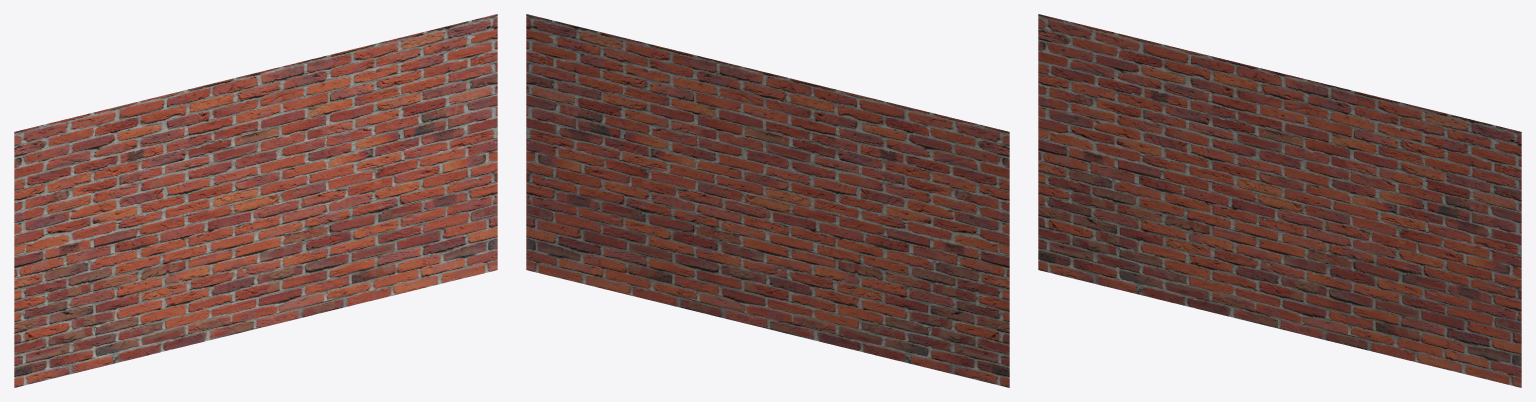
Rendered from muro.obj.
3 views of the same model, side by side, from view 1: azimuth 30°, elevation 25°; view 2: azimuth 150°, elevation 25°; view 3: azimuth 330°, elevation 25° (orthographic).
Parts seen in each view (by area): view 1: pPlane1; view 2: pPlane1; view 3: pPlane1.
Part boxes in pixels (x1,y1,x2,y2): pPlane1: (14, 14, 497, 387); pPlane1: (526, 14, 1009, 387); pPlane1: (1038, 14, 1521, 387).
Size of the model in its own units: 1781 by 903 by 0.000122.
Materials: 1 (1 with a texture image).
